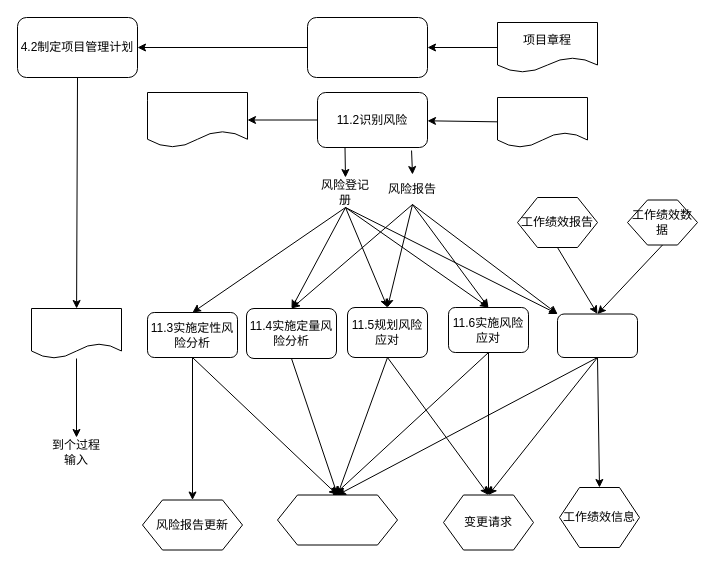
The diagram is 715 pixels wide and 568 high, and some of its shapes have lost their labels. The shapes that lost their labels are listed below. From the top down, each one's centre as x and y in pixels, then its label:
At [367,47]: "11.1规划风险管理".
At [197,120]: "采购文档".
At [542,122]: "协议".
At [76,333]: "项目管理计划".
At [597,335]: "11.7监督风险".
At [337,519]: "风险登记册更新".
